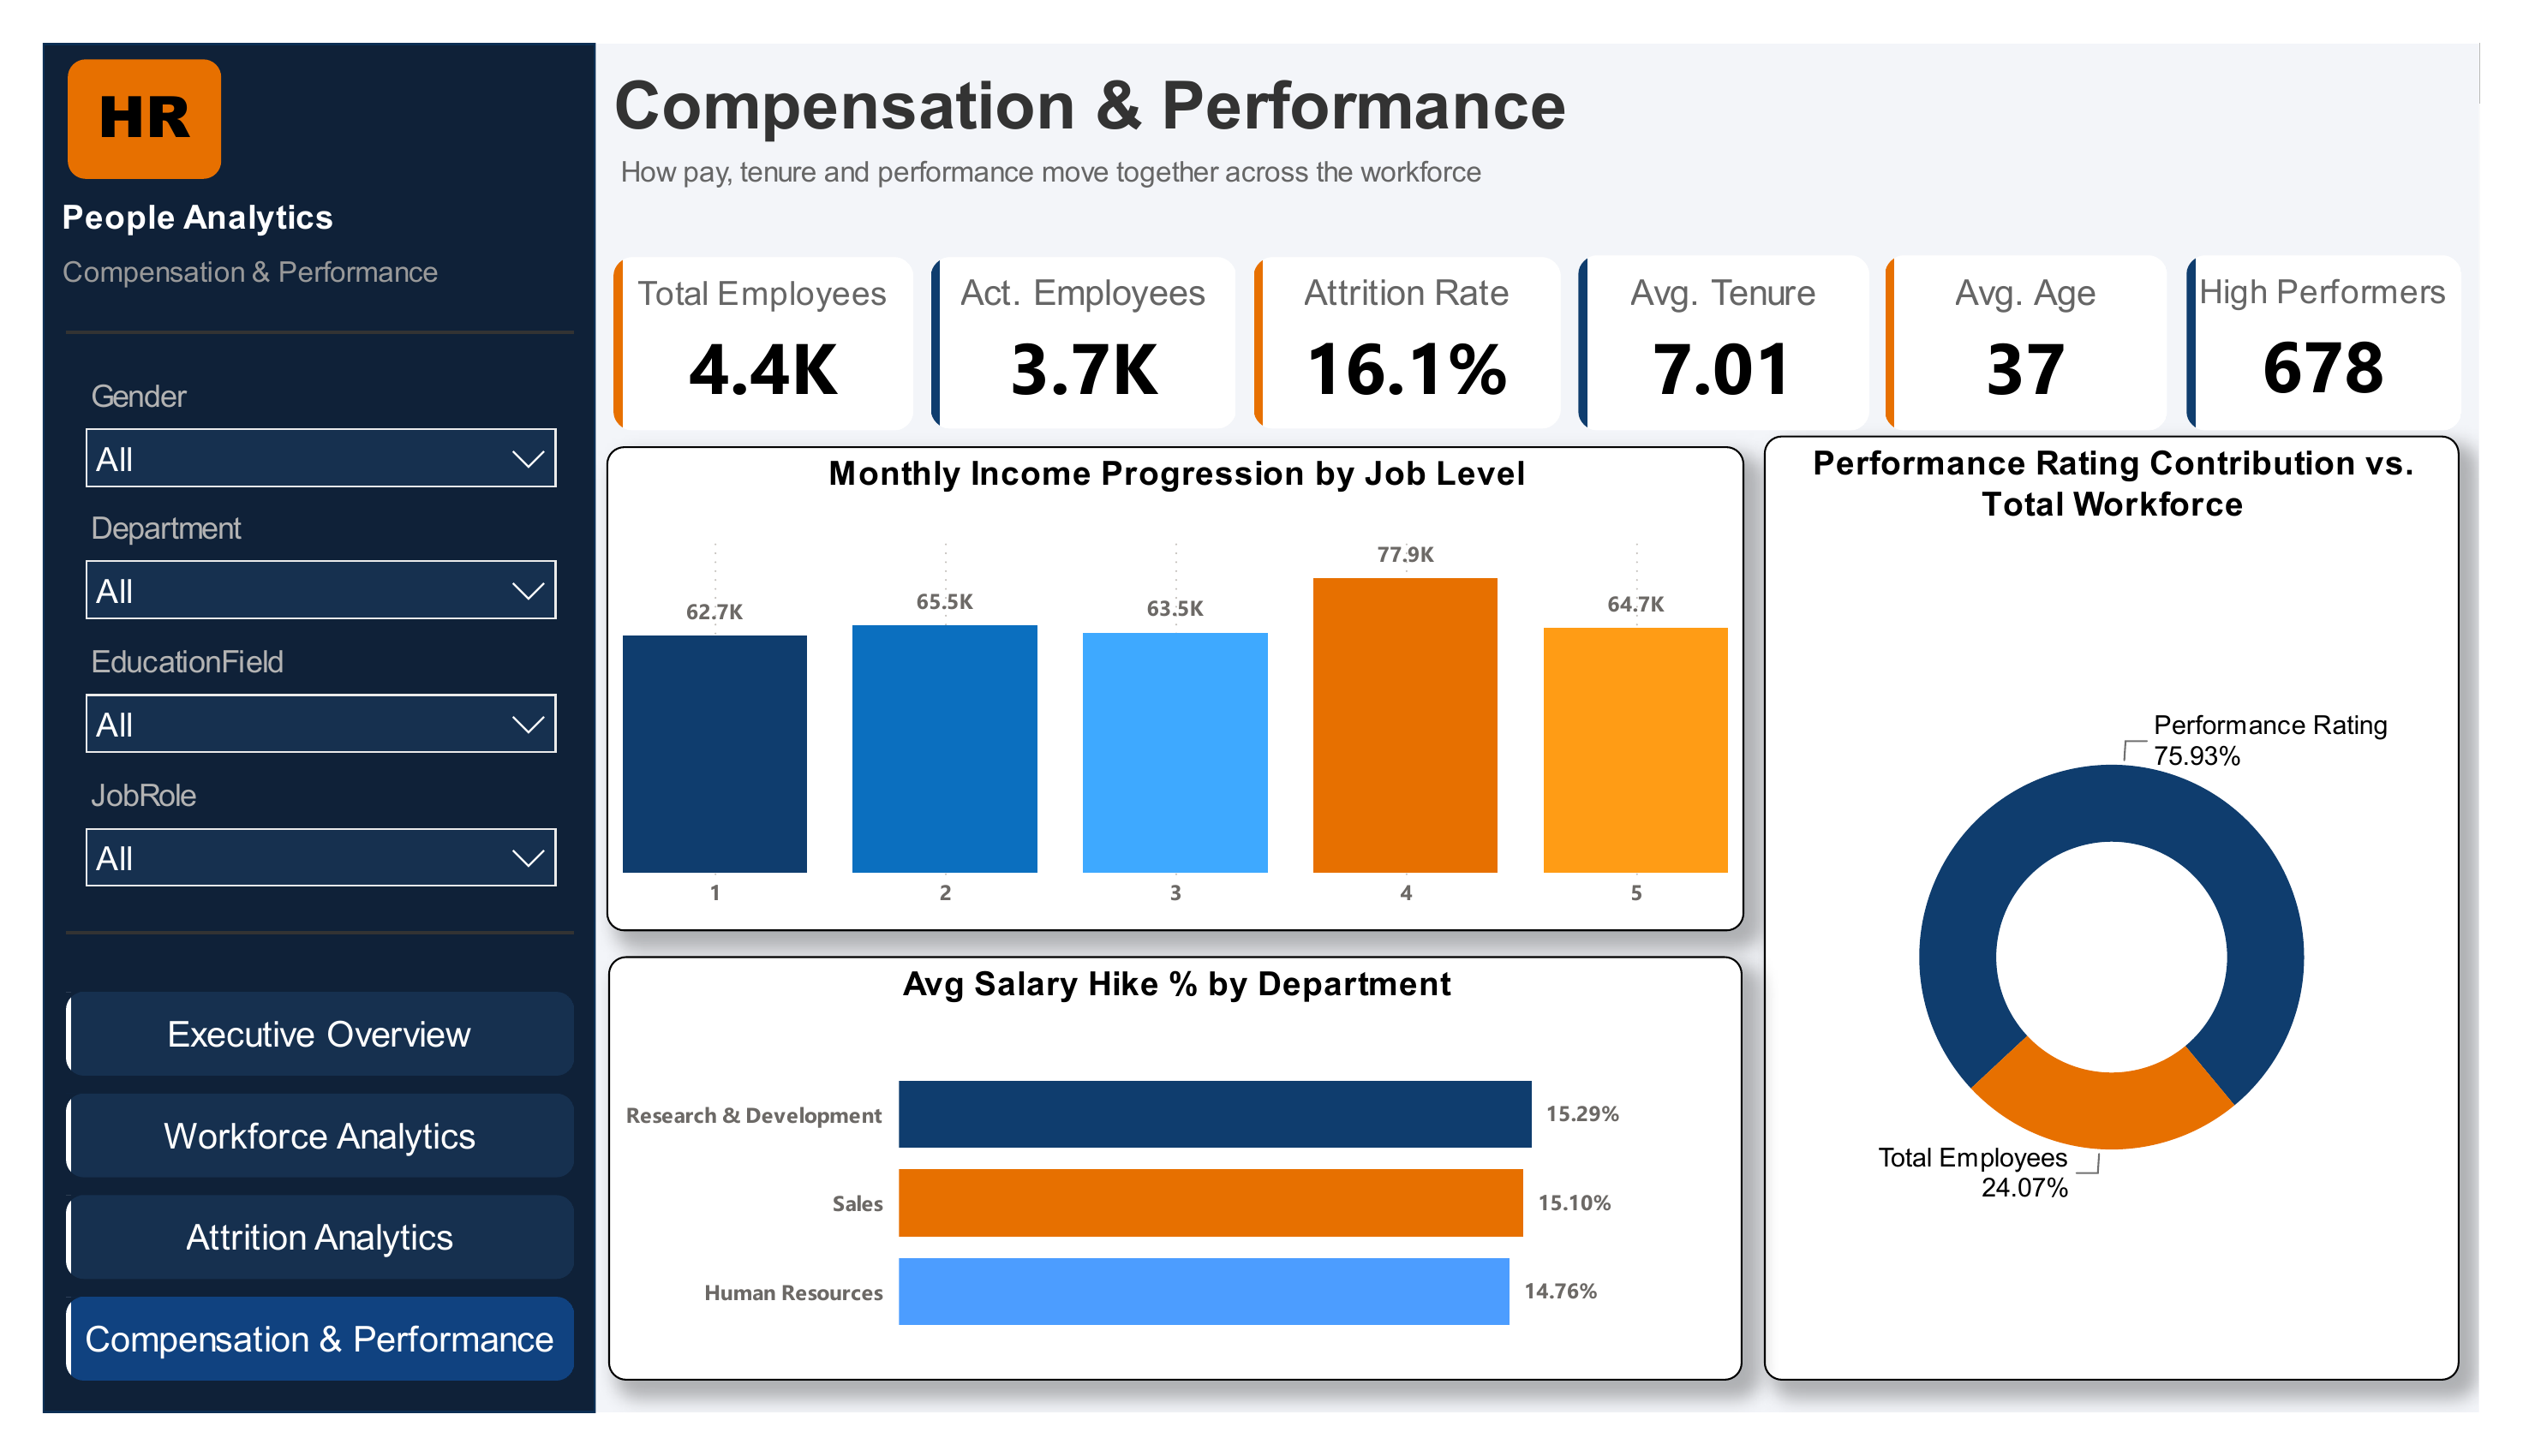

Layout of this report page (visuals, bound fields, positions):
{"tool":"powerbi","page":{"name":"Compensation & Performance","canvas":[1366,768],"ordinal":3},"visuals":[{"type":"shape","box":[0,0,310,768.3],"z":0},{"type":"pageNavigator","box":[13.3,531.7,285,218.3],"z":1000},{"type":"columnChart","title":"Monthly Income Progression by Job Level","fields":{"Y":["Measuress.Average Monthly Income"],"Category":["Employee Data.JobLevel"]},"box":[316,226,638,272],"z":2000},{"type":"donutChart","title":"Performance Rating Contribution vs. Total Workforce","fields":{"Y":["Sum(Employee Data.PerformanceRating)","Measuress.Total Employees"]},"box":[965,220,390,530],"z":3000},{"type":"group","id":"g1","title":"Group 2","box":[13.6,184.4,284.2,302.4],"z":4000},{"type":"textbox","box":[13.6,9.1,86.2,66.5],"z":5000},{"type":"slicer","fields":{"Values":["EmployeeData.Department"]},"box":[13.6,258.1,284.5,72.3],"z":5000,"group":"g1"},{"type":"textbox","box":[6,81,177.3,33.3],"z":6000},{"type":"shape","box":[13.3,150,284.4,24.4],"z":7000},{"type":"slicer","fields":{"Values":["EmployeeData.Gender"]},"box":[13.6,184.4,284.5,73.7],"z":7000,"group":"g1"},{"type":"textbox","box":[6,114,251,36],"z":8000},{"type":"slicer","fields":{"Values":["EmployeeData.JobRole"]},"box":[13.6,408.3,284.5,78],"z":9000,"group":"g1"},{"type":"shape","box":[13.3,486.7,284.4,24.4],"z":9000},{"type":"textbox","box":[315,8.3,573.3,55],"z":10000},{"type":"textbox","box":[318.8,57.5,536.2,35],"z":11000},{"type":"slicer","fields":{"Values":["EmployeeData.EducationField"]},"box":[13.6,333.2,284.5,75.1],"z":11000,"group":"g1"},{"type":"barChart","fields":{"Category":["EmployeeData.Department"],"Y":["Measuress.Avg Salary Hike %"]},"box":[316.7,511.7,636.7,238.3],"z":12000},{"type":"cardVisual","title":"Total Employees","fields":{"Data":["Measuress.Total Employees"]},"box":[315.4,114.6,177.7,106.9],"z":13000},{"type":"cardVisual","title":"Avearage Tenure","fields":{"Data":["Measuress.Average Tenure"]},"box":[855.8,114.2,173.3,107.5],"z":14000},{"type":"cardVisual","title":"Active Employees","fields":{"Data":["Measuress.Active Employees"]},"box":[492.9,114.9,181.4,105.8],"z":15000},{"type":"cardVisual","title":"Attrition Rate","fields":{"Data":["Measuress.Attrition Rate"]},"box":[674.3,114.9,181.4,105.8],"z":16000},{"type":"cardVisual","title":"Average Age","fields":{"Data":["Measuress.Average Age"]},"box":[1028.3,114.2,167.5,107.5],"z":17000},{"type":"cardVisual","title":"High Performers","fields":{"Data":["Measuress.High Performers"]},"box":[1196.7,114.2,164.2,107.5],"z":18000}]}

Visuals, with their boxes on the page's 1366x768 design canvas (x1, y1, x2, y2). These are canvas units, not pixel positions in the 2523x1456 screenshot, which may show the page scaled, cropped or inside an application window:
shape: [0,0,310,768]
pageNavigator: [13,532,298,750]
"Monthly Income Progression by Job Level" columnChart: [316,226,954,498]
"Performance Rating Contribution vs. Total Workforce" donutChart: [965,220,1355,750]
"Group 2" group: [14,184,298,487]
textbox: [14,9,100,76]
slicer - EmployeeData.Department: [14,258,298,330]
textbox: [6,81,183,114]
shape: [13,150,298,174]
slicer - EmployeeData.Gender: [14,184,298,258]
textbox: [6,114,257,150]
slicer - EmployeeData.JobRole: [14,408,298,486]
shape: [13,487,298,511]
textbox: [315,8,888,63]
textbox: [319,58,855,92]
slicer - EmployeeData.EducationField: [14,333,298,408]
barChart - EmployeeData.Department x Measuress.Avg Salary Hike %: [317,512,953,750]
"Total Employees" cardVisual: [315,115,493,222]
"Avearage Tenure" cardVisual: [856,114,1029,222]
"Active Employees" cardVisual: [493,115,674,221]
"Attrition Rate" cardVisual: [674,115,856,221]
"Average Age" cardVisual: [1028,114,1196,222]
"High Performers" cardVisual: [1197,114,1361,222]
